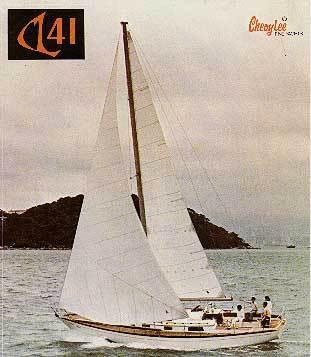Ship: (54, 23, 287, 353)
